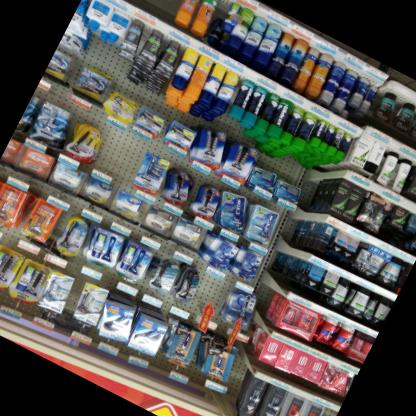empty_space: (86, 123, 149, 192), (187, 272, 234, 332)
